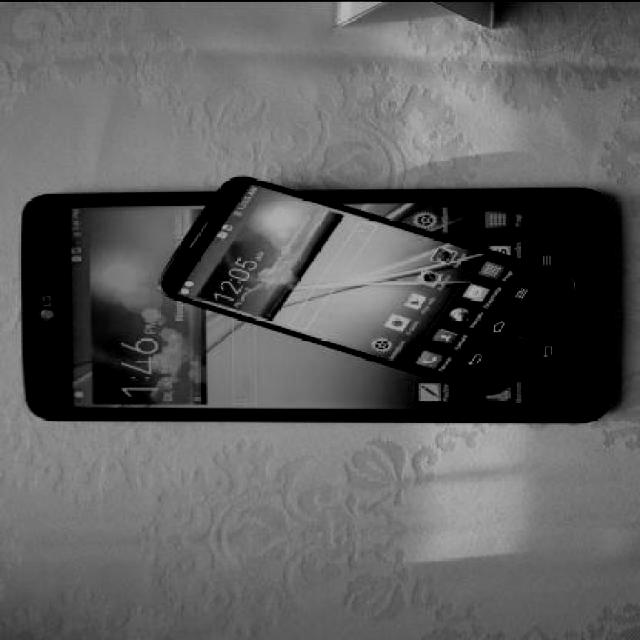fake: (24, 191, 618, 420), (158, 174, 584, 396)
